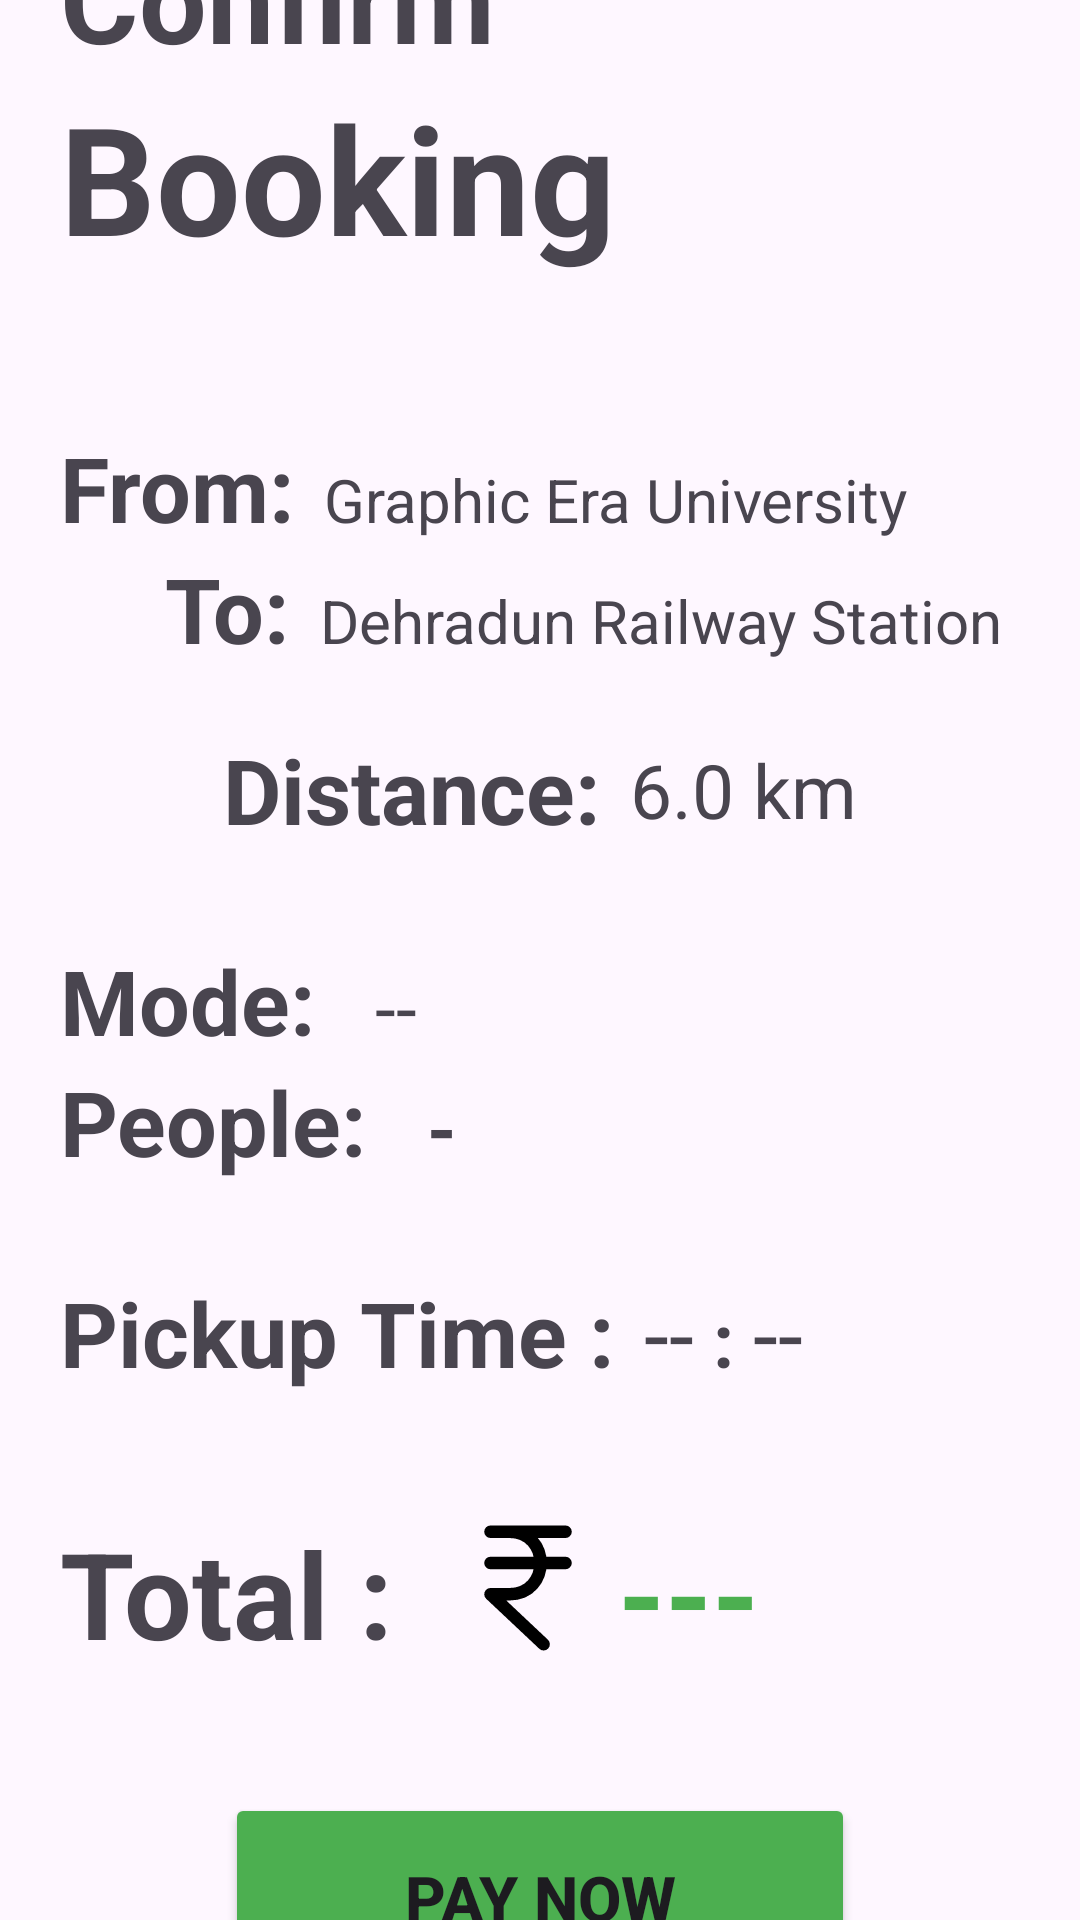

Point at icon controls on the screen. Image size 1080 x 1920, points as [x,y].
ruppee: [528,1588]
